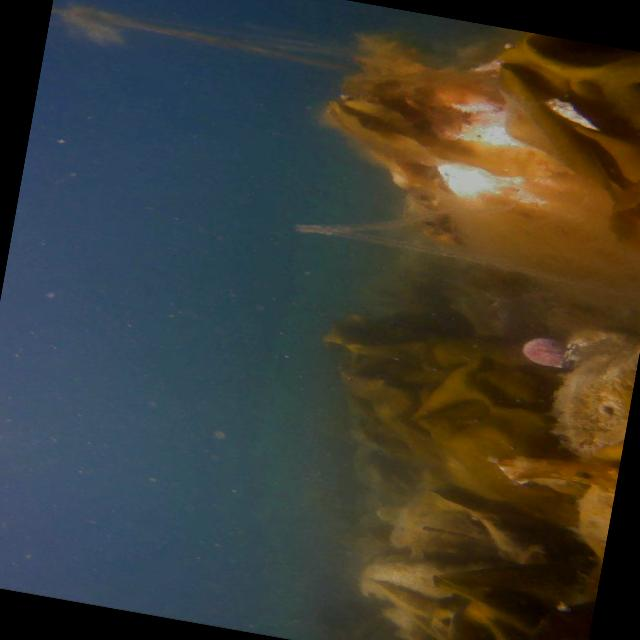Deniz Kestanesi: (434, 66, 504, 120), (519, 333, 570, 369)
